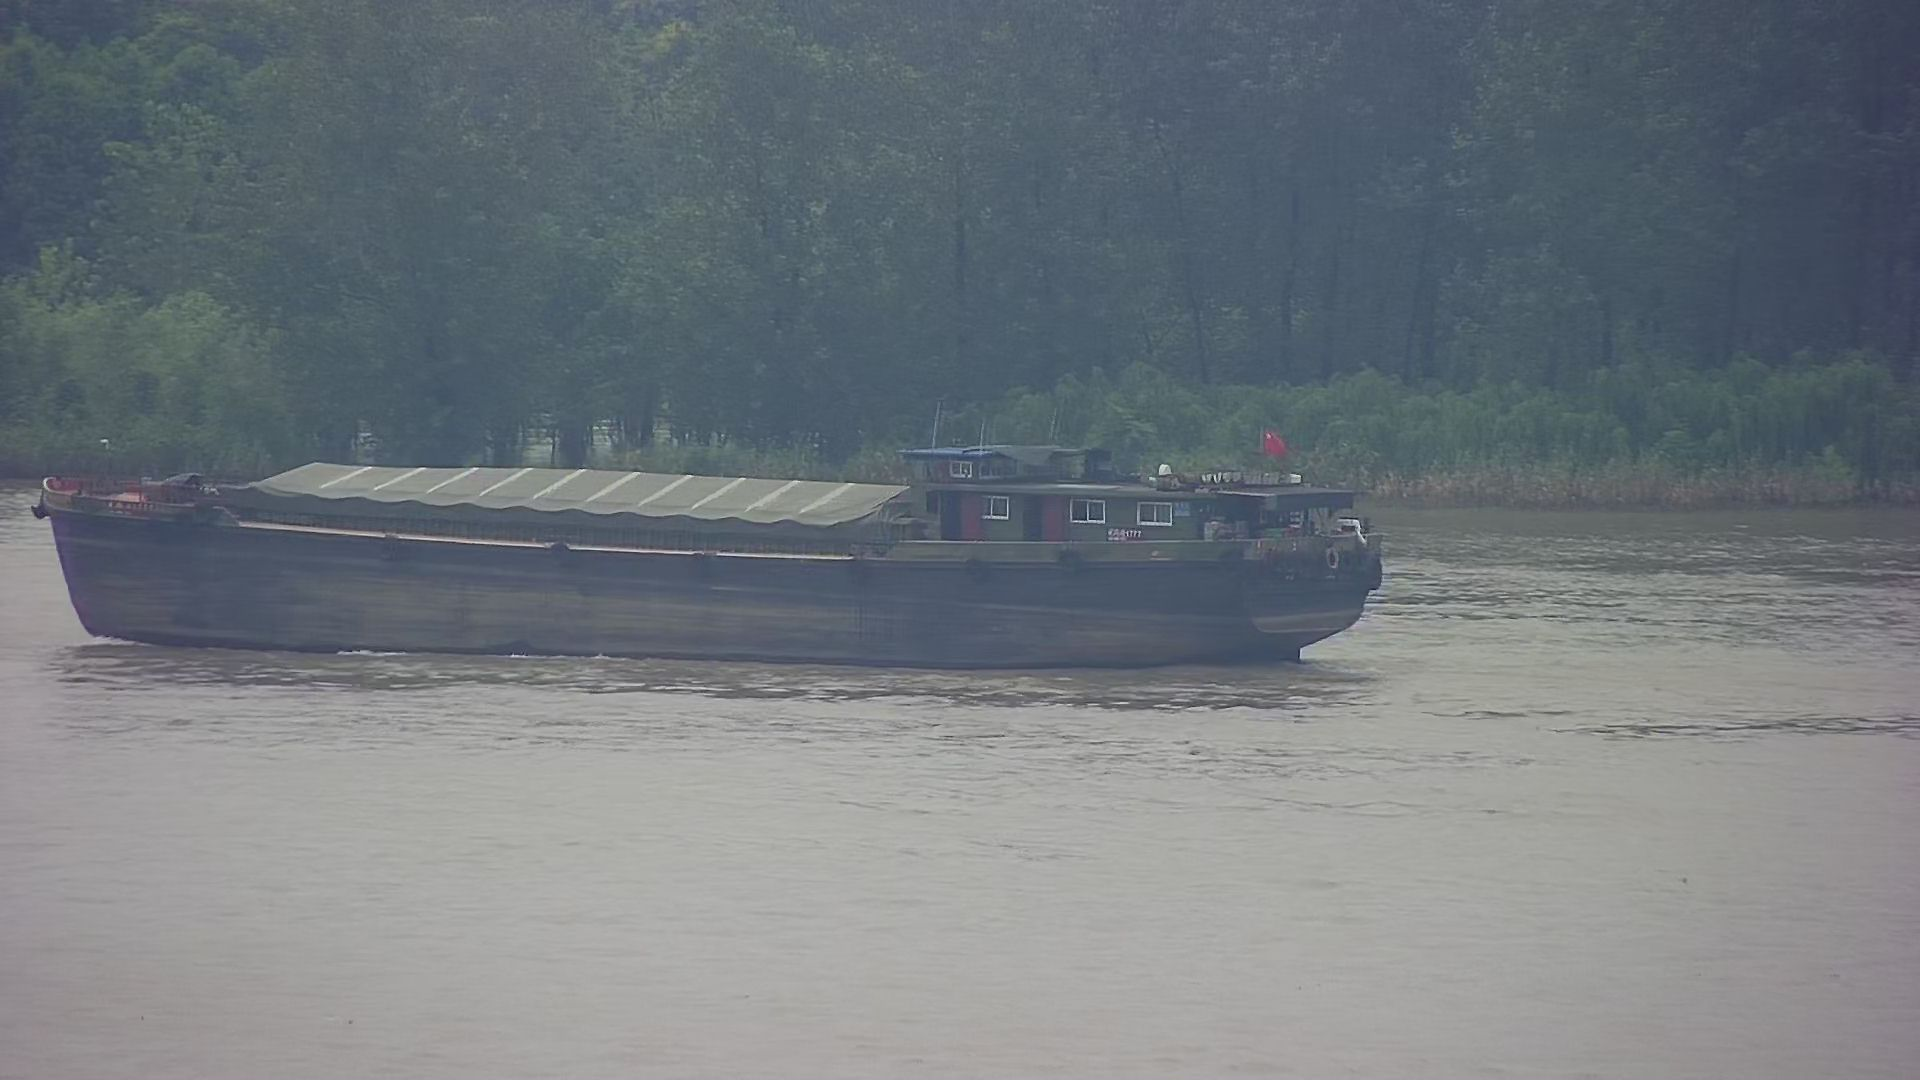ship: (32, 419, 1403, 687)
